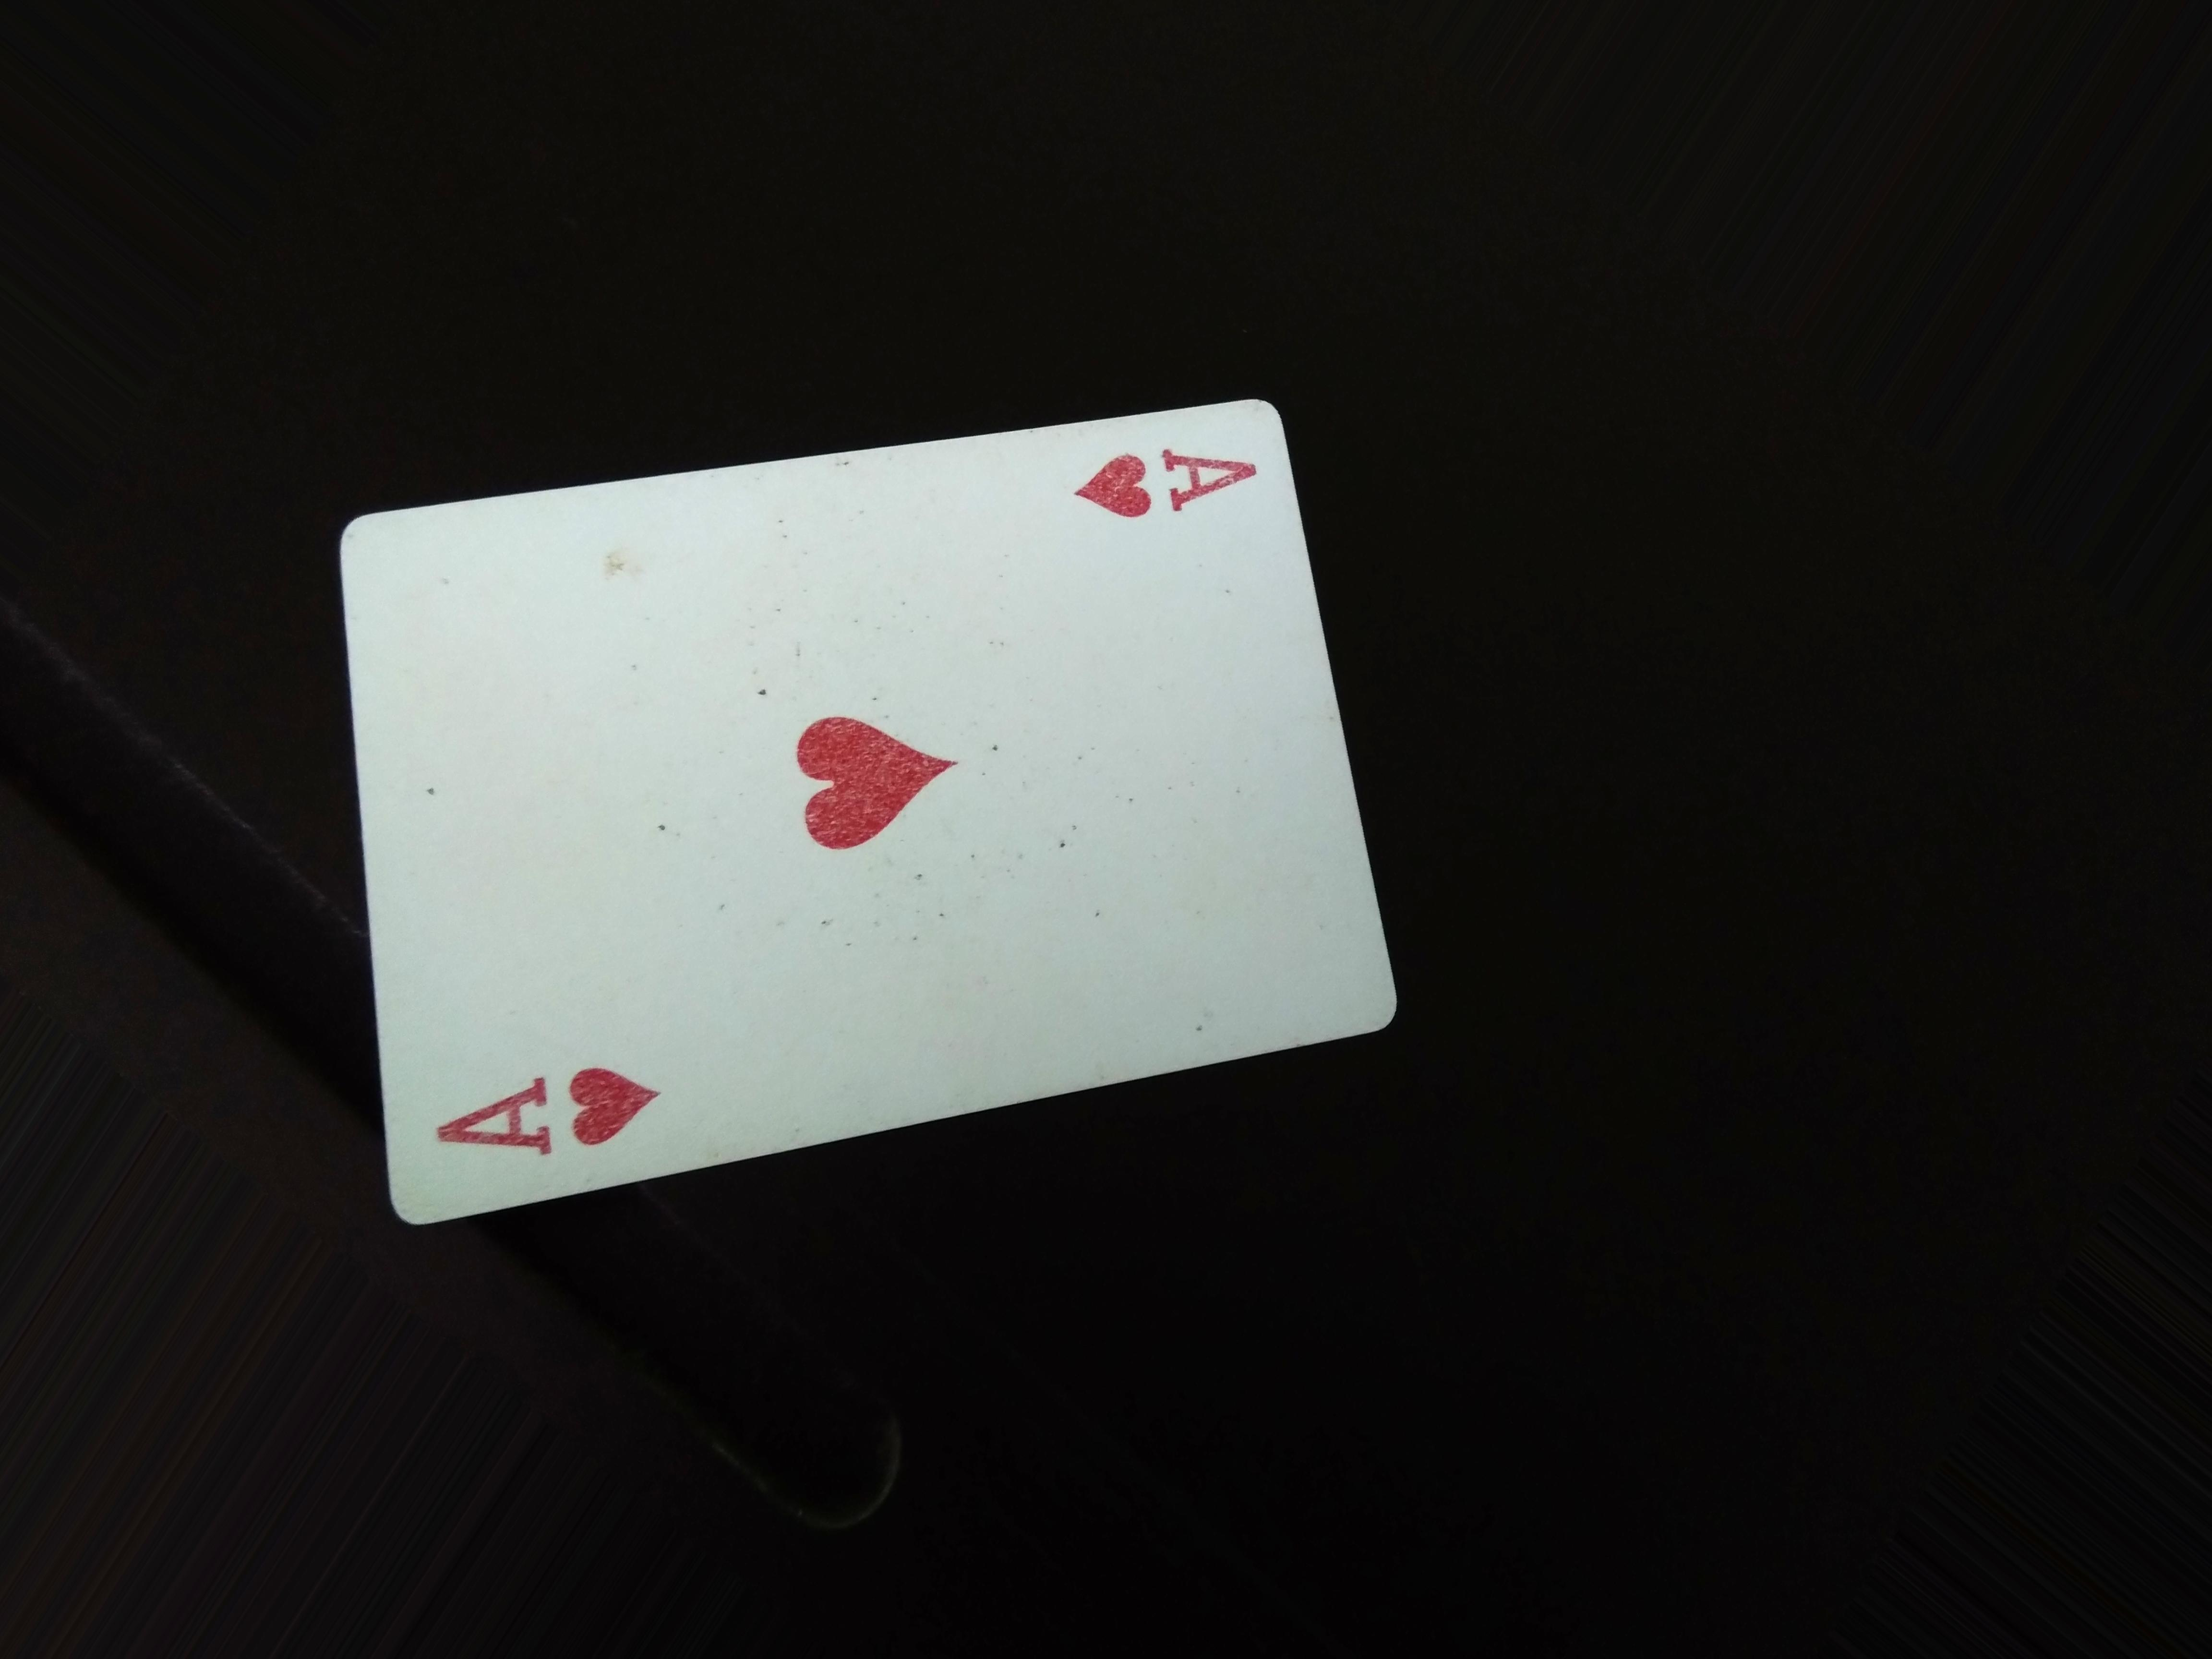AH: (423, 1026, 681, 1182)
